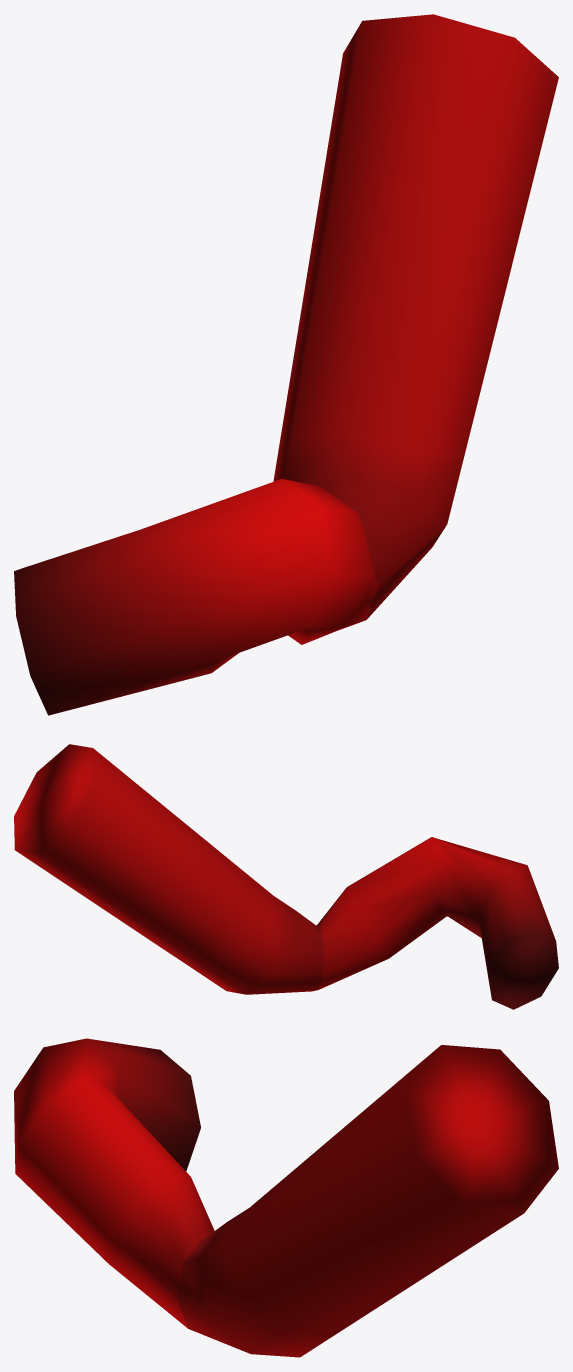
The model's file is CigaretteButt003.glb.
3 renders of one model, top to bottom at view 1: azimuth 30°, elevation 25°; view 2: azimuth 150°, elevation 25°; view 3: azimuth 270°, elevation 25°, orthographic. The views are drawn at different scales.
Visible parts, largest first — view 1: CigaretteButt003; view 2: CigaretteButt003; view 3: CigaretteButt003.
Part boxes in pixels (box(x1,y1,x2,y2)): CigaretteButt003: box(14, 14, 558, 715); CigaretteButt003: box(14, 744, 558, 1009); CigaretteButt003: box(14, 1038, 558, 1357).
Bounding box in the file's own units: 0.2165 × 0.131 × 0.1674.
